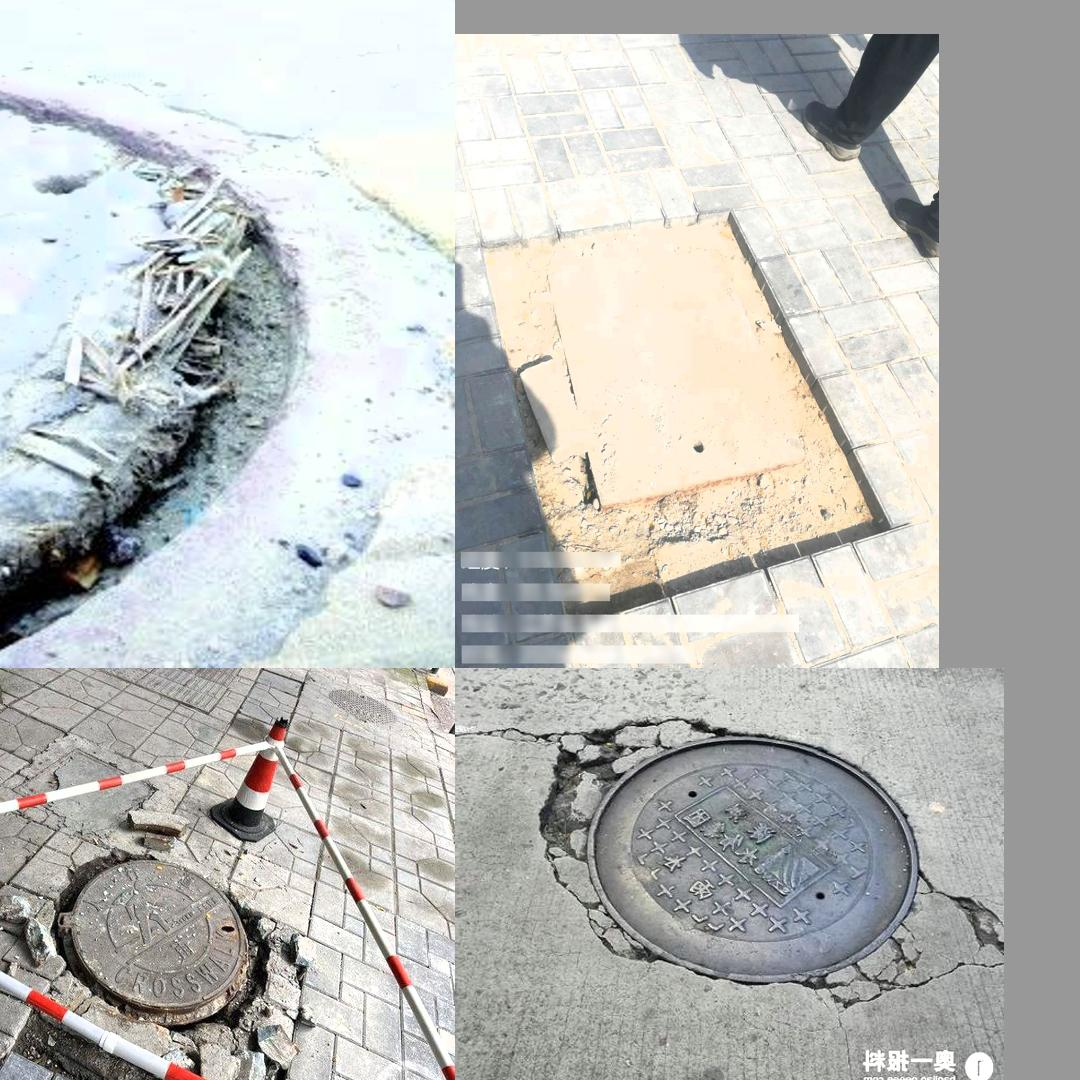circle: (0, 41, 406, 649), (530, 706, 993, 1007), (481, 226, 885, 569), (8, 830, 298, 1080)
